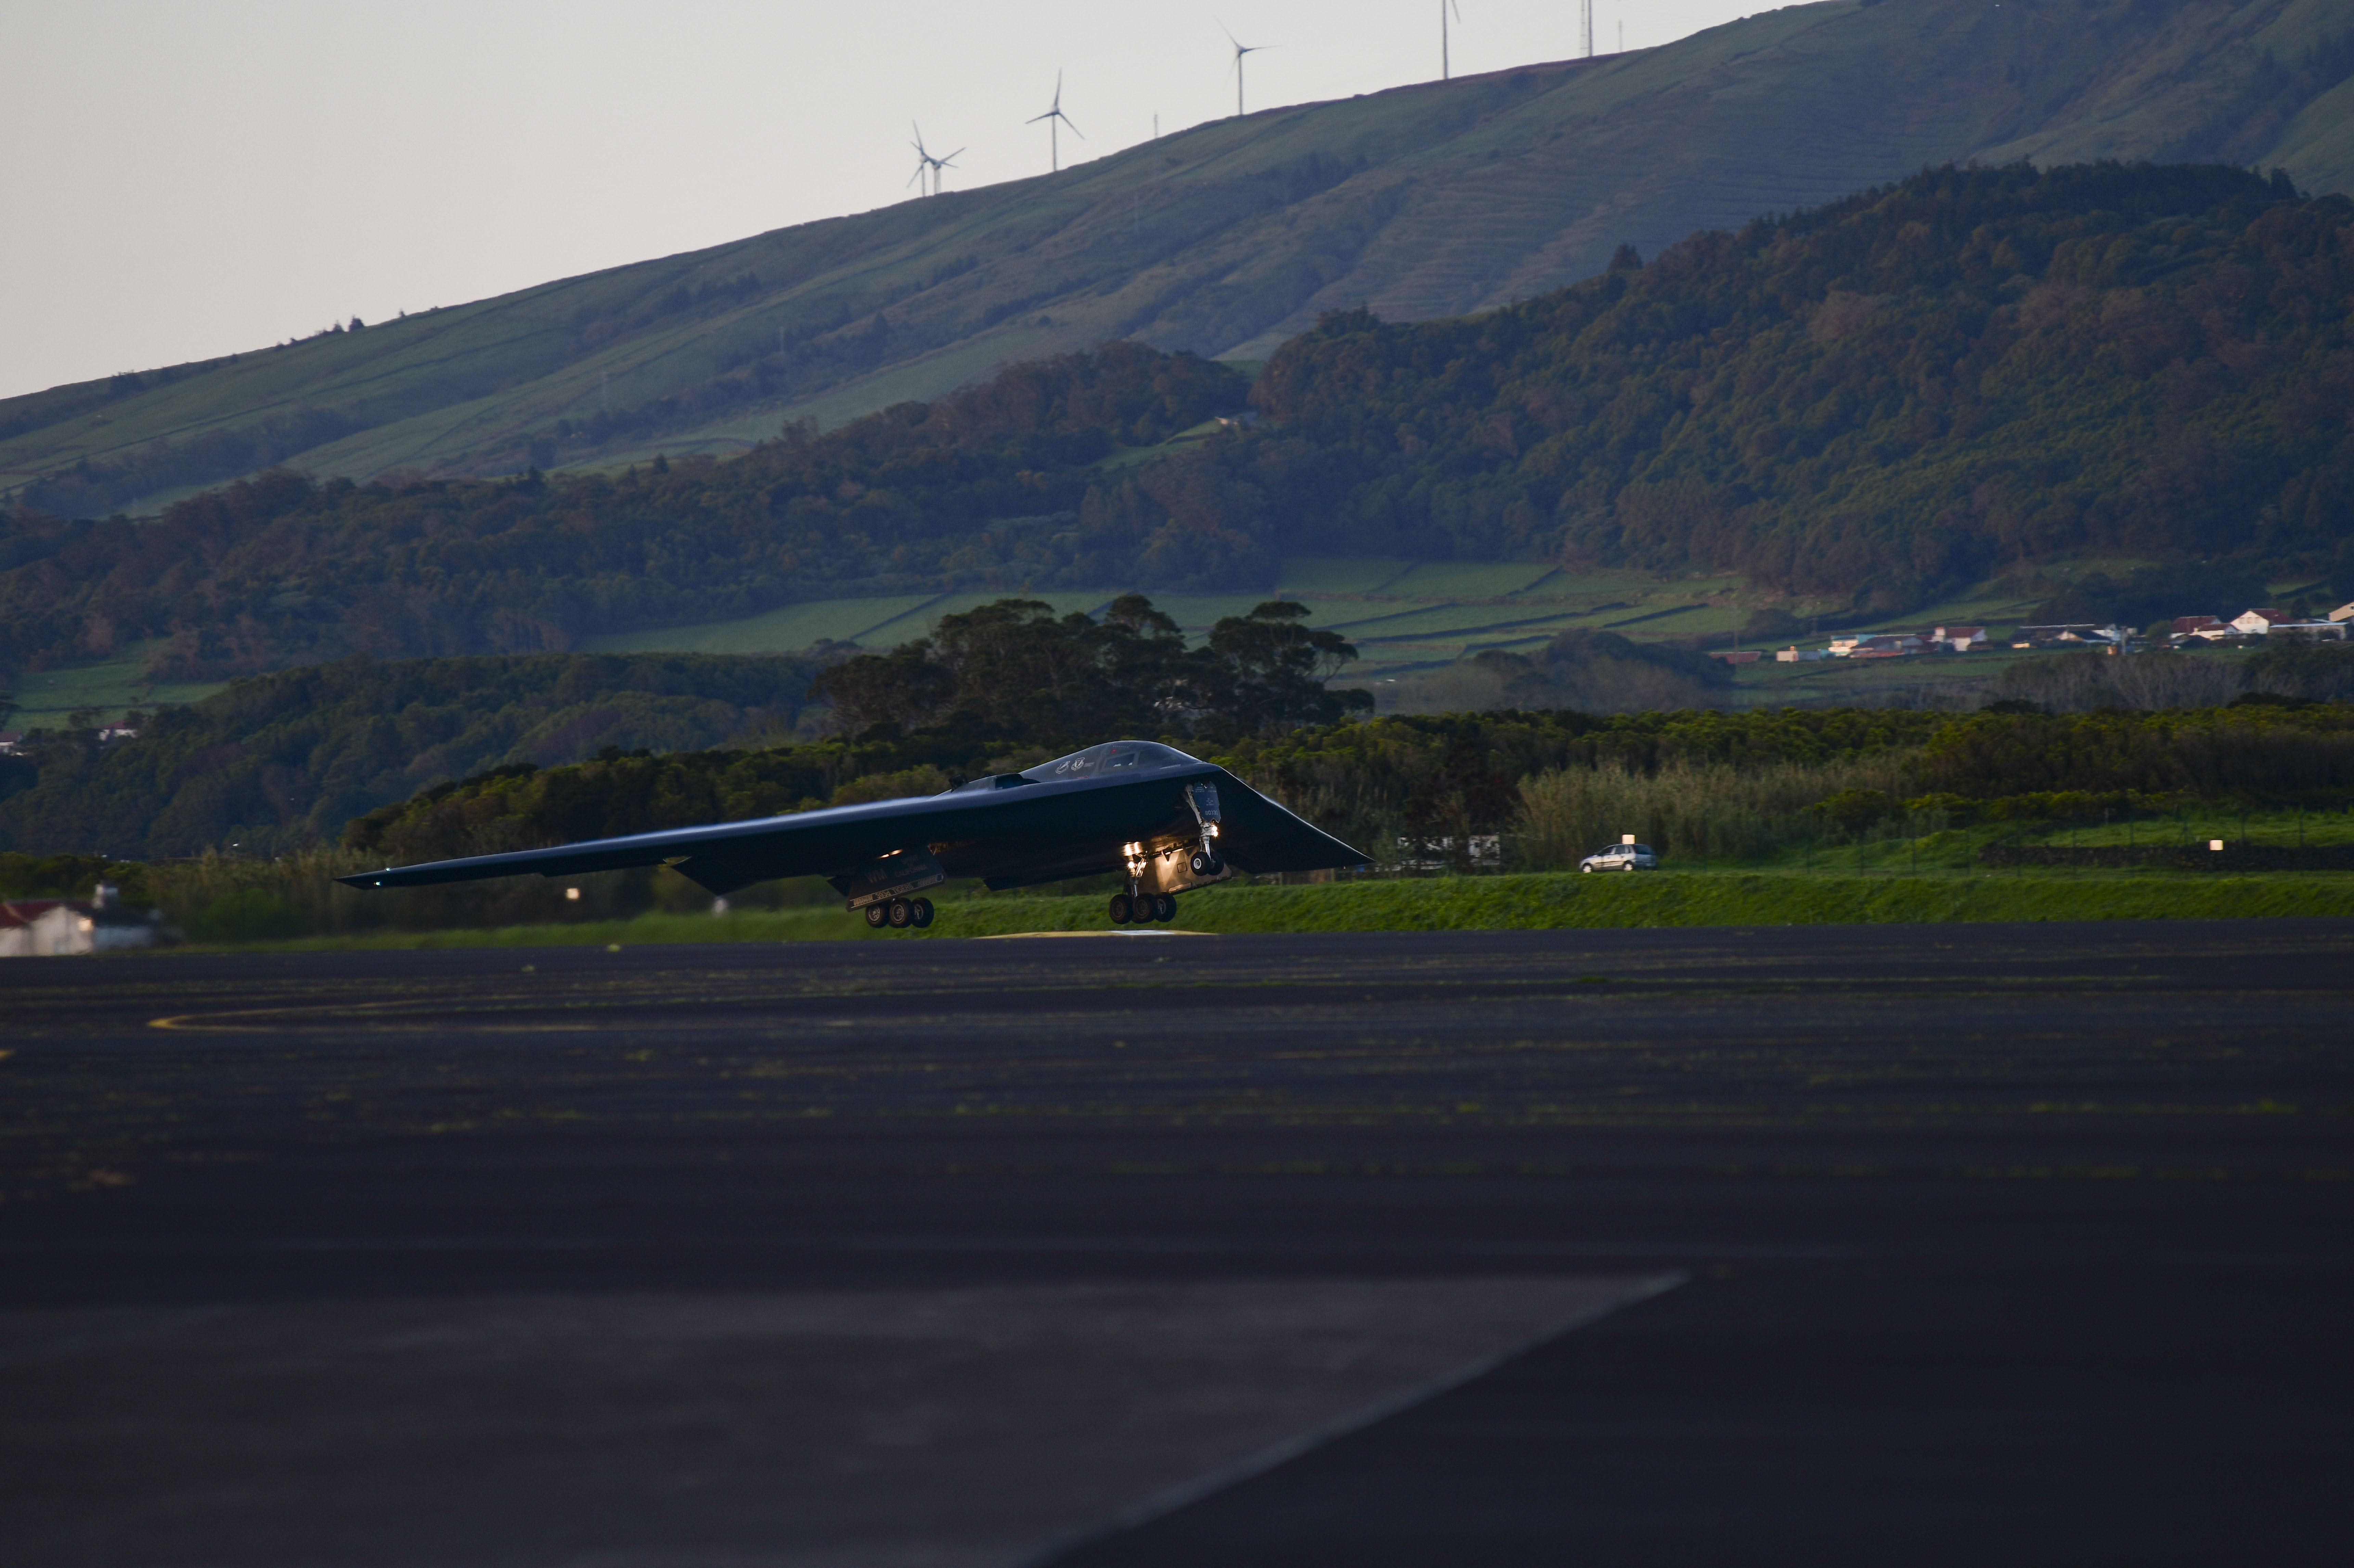B2: (331, 740, 1376, 928)
